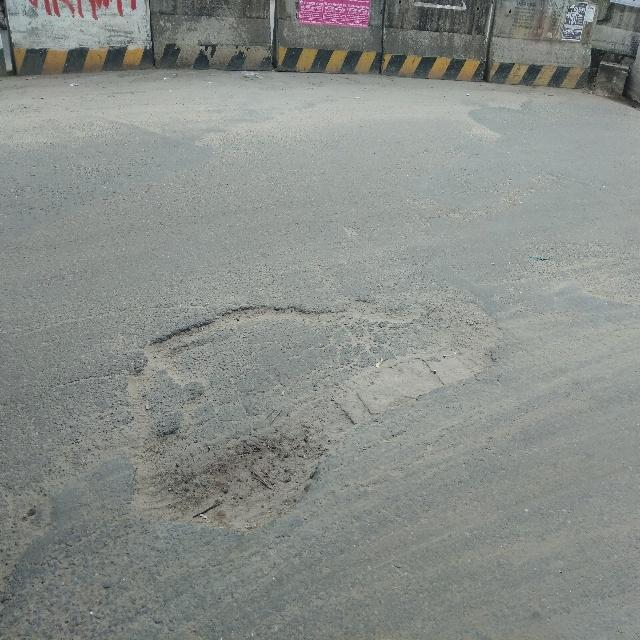Pothole: (165, 427, 301, 522)
Surface Erosion: (1, 292, 627, 409), (208, 74, 552, 170)
